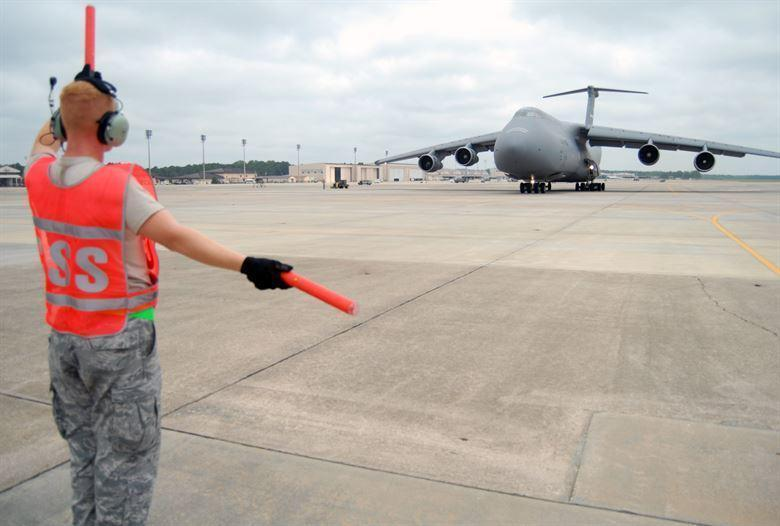Glass: (17, 66, 180, 339)
